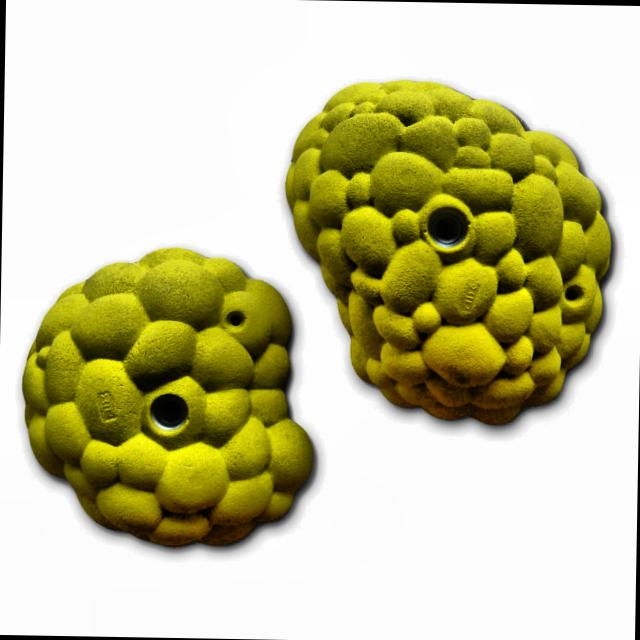Hold: (284, 73, 610, 428), (22, 246, 320, 552)
